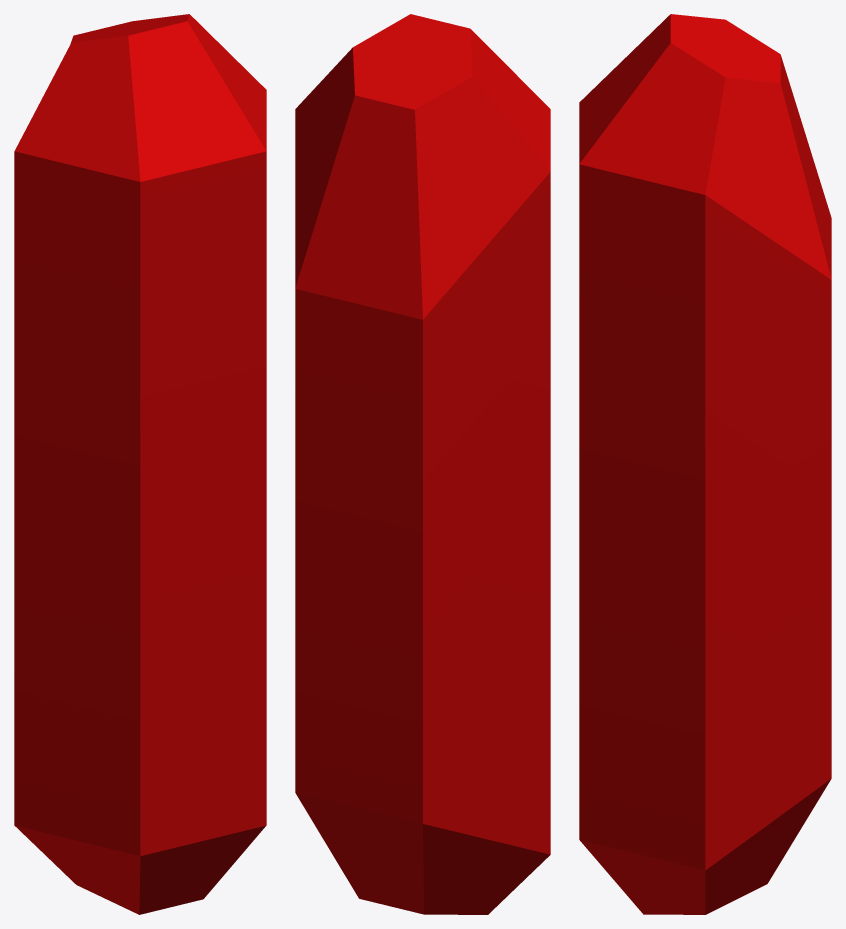
Rendered from geology-crystals-coloredcrystal_v7.fbx.
3 views of the same model, side by side, from view 1: azimuth 30°, elevation 25°; view 2: azimuth 150°, elevation 25°; view 3: azimuth 270°, elevation 25° (orthographic).
Visible parts, largest first — view 1: ColoredCrystal_v7; view 2: ColoredCrystal_v7; view 3: ColoredCrystal_v7.
Part boxes in pixels (box(x1,y1,x2,y2)): ColoredCrystal_v7: box(14, 14, 266, 914); ColoredCrystal_v7: box(295, 14, 550, 914); ColoredCrystal_v7: box(579, 14, 831, 914).
Size of the model in its own units: 1.5 by 4.93 by 1.3.
